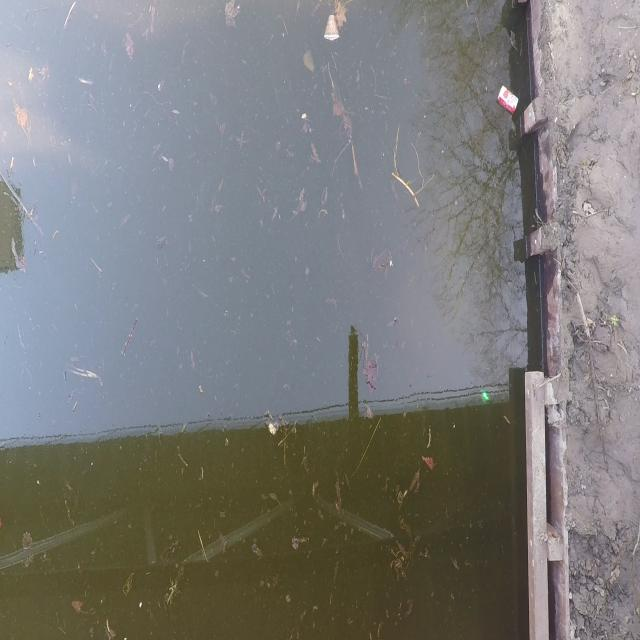Non plastique: (495, 81, 521, 118), (318, 14, 344, 51)
